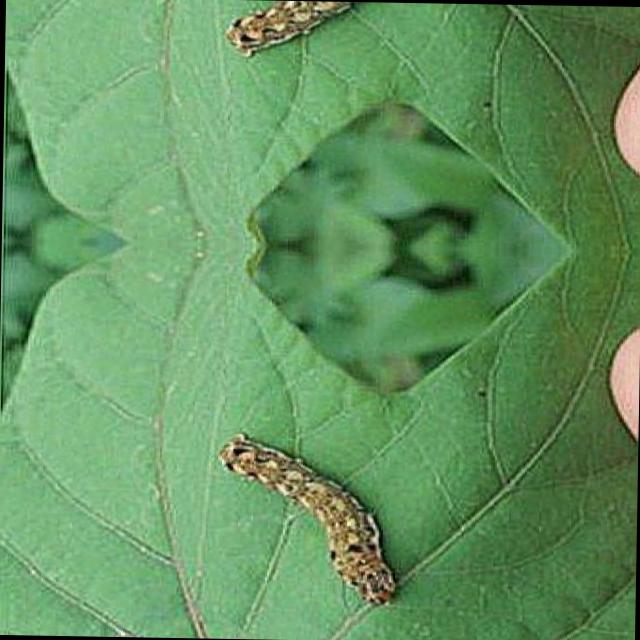Armyworm: (175, 428, 448, 617), (176, 1, 365, 76)
Armyworm_damage: (165, 81, 607, 428)
